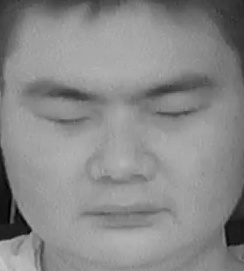blink: (153, 97, 208, 130), (41, 104, 93, 135)
mouth: (81, 189, 169, 234)
